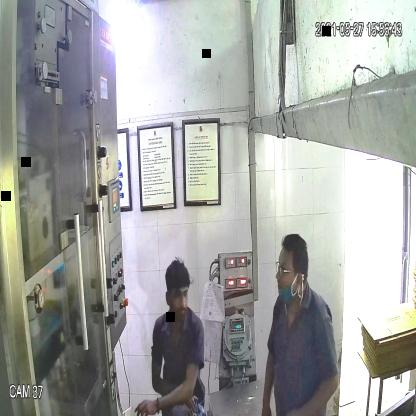goggles: (275, 259, 302, 281)
no_goggles: (164, 288, 190, 306)
